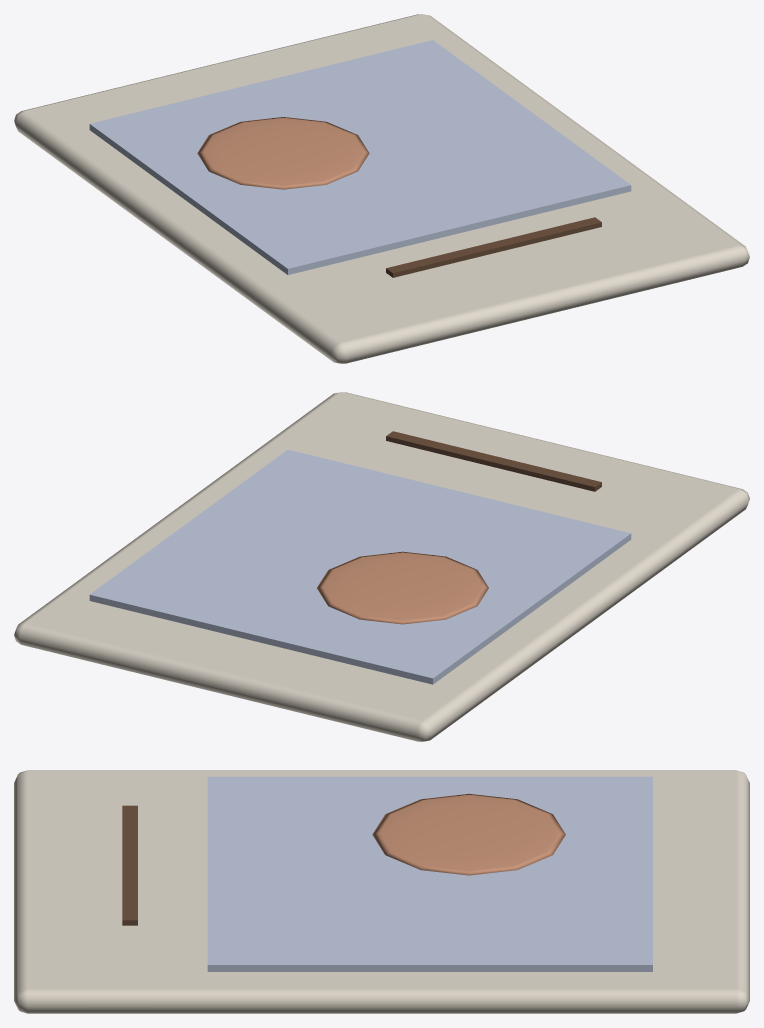
Rendered from card.glb.
3 renders of one model, top to bottom at view 1: azimuth 30°, elevation 25°; view 2: azimuth 150°, elevation 25°; view 3: azimuth 270°, elevation 25°, orthographic. The views are drawn at different scales.
Visible parts, largest first — view 1: card.material0, card.material1, card.material2, card.material3; view 2: card.material0, card.material1, card.material2, card.material3; view 3: card.material0, card.material1, card.material2, card.material3.
Part boxes in pixels (bbox=[...]): card.material0: bbox=[14, 14, 749, 363]; card.material1: bbox=[89, 40, 631, 274]; card.material2: bbox=[197, 117, 369, 189]; card.material3: bbox=[386, 217, 601, 277]; card.material0: bbox=[14, 392, 749, 741]; card.material1: bbox=[89, 449, 631, 684]; card.material2: bbox=[317, 551, 488, 624]; card.material3: bbox=[386, 431, 601, 491]; card.material0: bbox=[14, 770, 749, 1013]; card.material1: bbox=[207, 776, 652, 971]; card.material2: bbox=[372, 793, 565, 875]; card.material3: bbox=[122, 805, 137, 925].
Size of the model in its own units: 0.28 by 0.0235 by 0.38.
